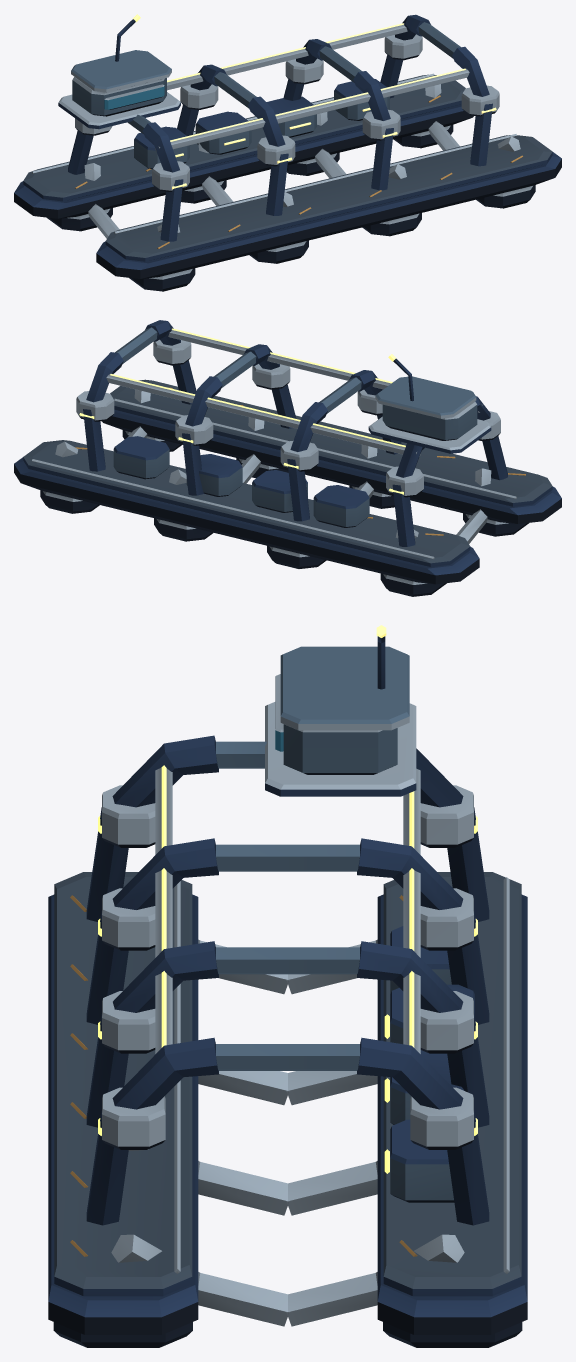
File: shipyard-transfer-dock.glb
3 views of the same model, one above another, from view 1: azimuth 30°, elevation 25°; view 2: azimuth 150°, elevation 25°; view 3: azimuth 270°, elevation 25° (orthographic). The views are drawn at different scales.
Parts seen in each view (by area): view 1: shipyard-transfer-dock; view 2: shipyard-transfer-dock; view 3: shipyard-transfer-dock.
Part boxes in pixels (<box>): shipyard-transfer-dock: <box>14,14,561,291</box>; shipyard-transfer-dock: <box>14,320,561,596</box>; shipyard-transfer-dock: <box>48,625,527,1347</box>.
Bounding box in the file's own units: 13.9 × 6.1 × 6.46.
